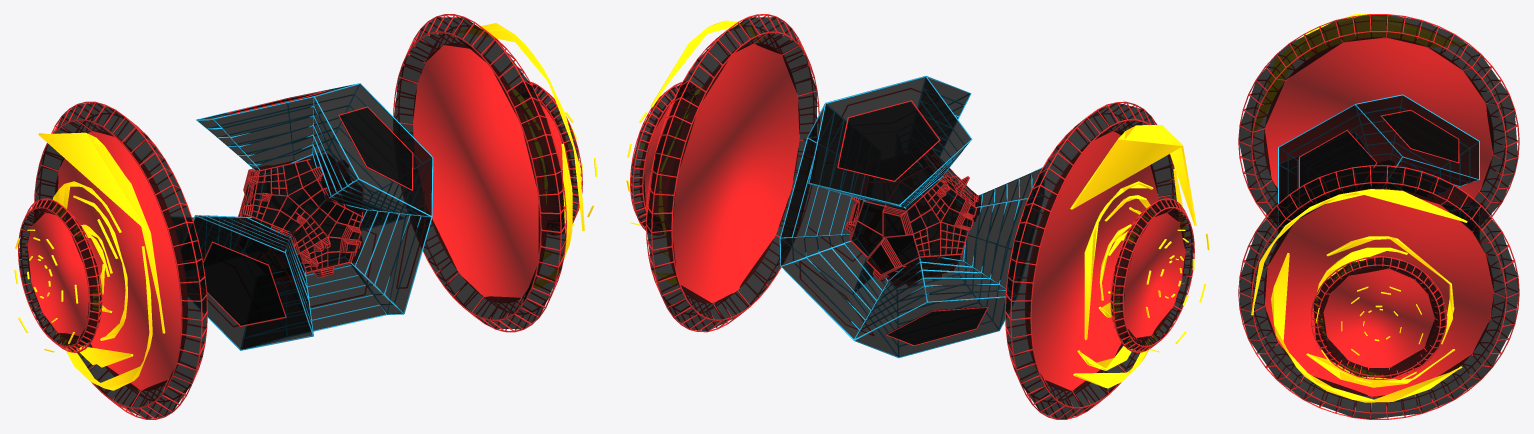
The model's file is iondrive.glb.
The picture shows the model from 3 angles, left to right: view 1: azimuth 30°, elevation 25°; view 2: azimuth 150°, elevation 25°; view 3: azimuth 270°, elevation 25°; orthographic projection. The views are drawn at different scales.
Visible parts, largest first — view 1: circle_constant1_0, circle_HoloFillDark_0; view 2: circle_constant1_0, circle_HoloFillDark_0; view 3: circle_constant1_0, circle_HoloFillDark_0.
Part boxes in pixels (x1=…): circle_constant1_0: x1=14, y1=14, x2=597, y2=419; circle_HoloFillDark_0: x1=19, y1=17, x2=581, y2=418; circle_constant1_0: x1=626, y1=14, x2=1209, y2=419; circle_HoloFillDark_0: x1=631, y1=17, x2=1193, y2=418; circle_constant1_0: x1=1238, y1=14, x2=1519, y2=419; circle_HoloFillDark_0: x1=1239, y1=15, x2=1518, y2=418.
Size of the model in its own units: 4.08 by 2.21 by 2.21.
Materials: 2 (2 with a texture image).
